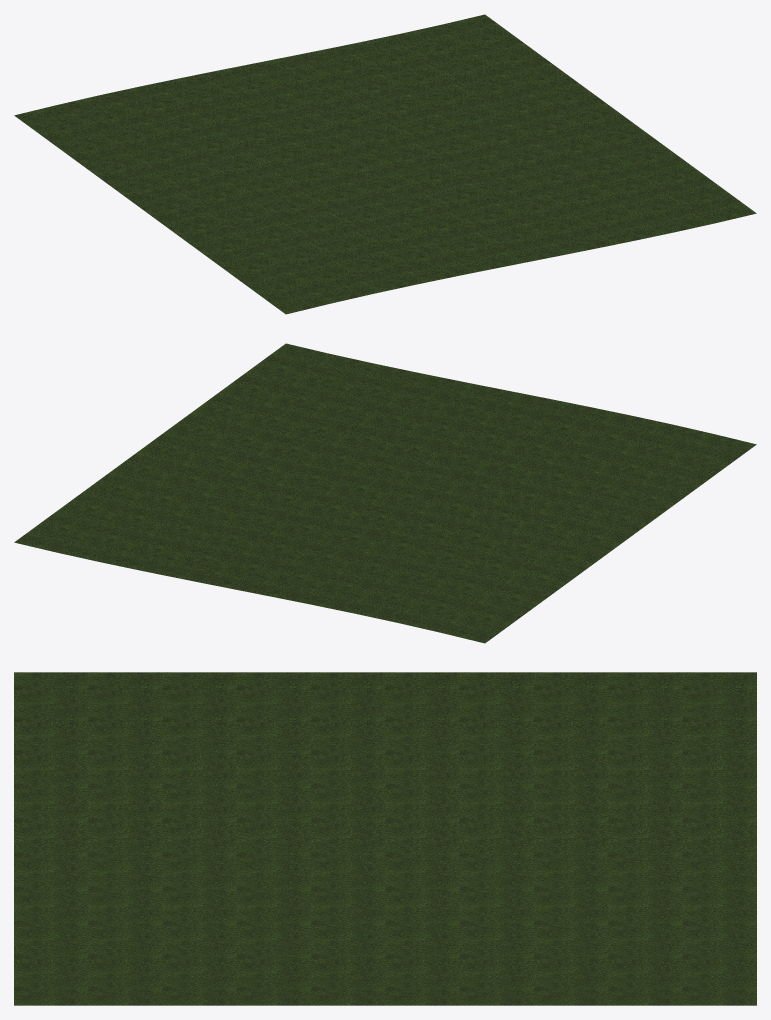
Rendered from SM_Garden_Grass_02.FBX.
3 views of the same model, one above another, from view 1: azimuth 30°, elevation 25°; view 2: azimuth 150°, elevation 25°; view 3: azimuth 270°, elevation 25° (orthographic). The views are drawn at different scales.
Visible parts, largest first — view 1: SM_Garden_Grass_02; view 2: SM_Garden_Grass_02; view 3: SM_Garden_Grass_02.
Boxes of the visible parts, x1=… form: SM_Garden_Grass_02: x1=14, y1=14, x2=756, y2=314; SM_Garden_Grass_02: x1=14, y1=343, x2=756, y2=643; SM_Garden_Grass_02: x1=14, y1=672, x2=756, y2=1005.
Size of the model in its own units: 50 by 1.41 by 50.
